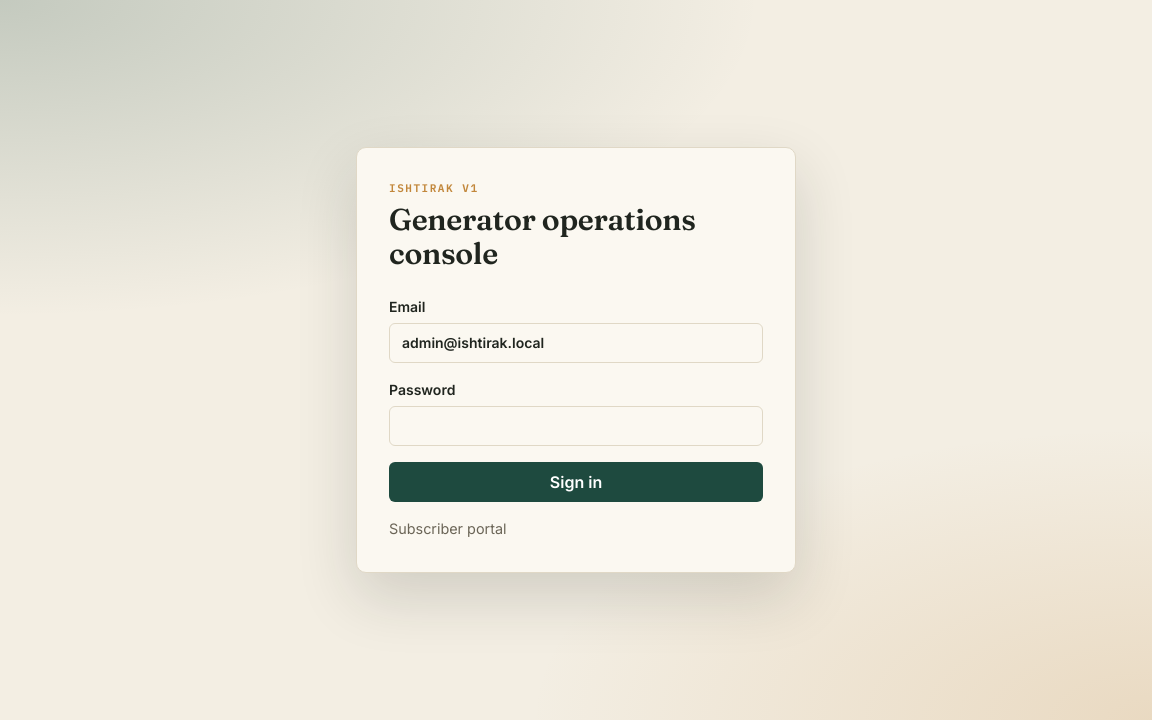
auth pages › links from the operator login to the subscriber login
The image size is (1152, 720).
Check: the heading "Generator operations console" is shown, box [389,201,696,272]
What coordinates should you click on to do the following:
click the link "Subscriber portal"
I would click on:
 (448, 529)
Its box is [389,518,506,539].
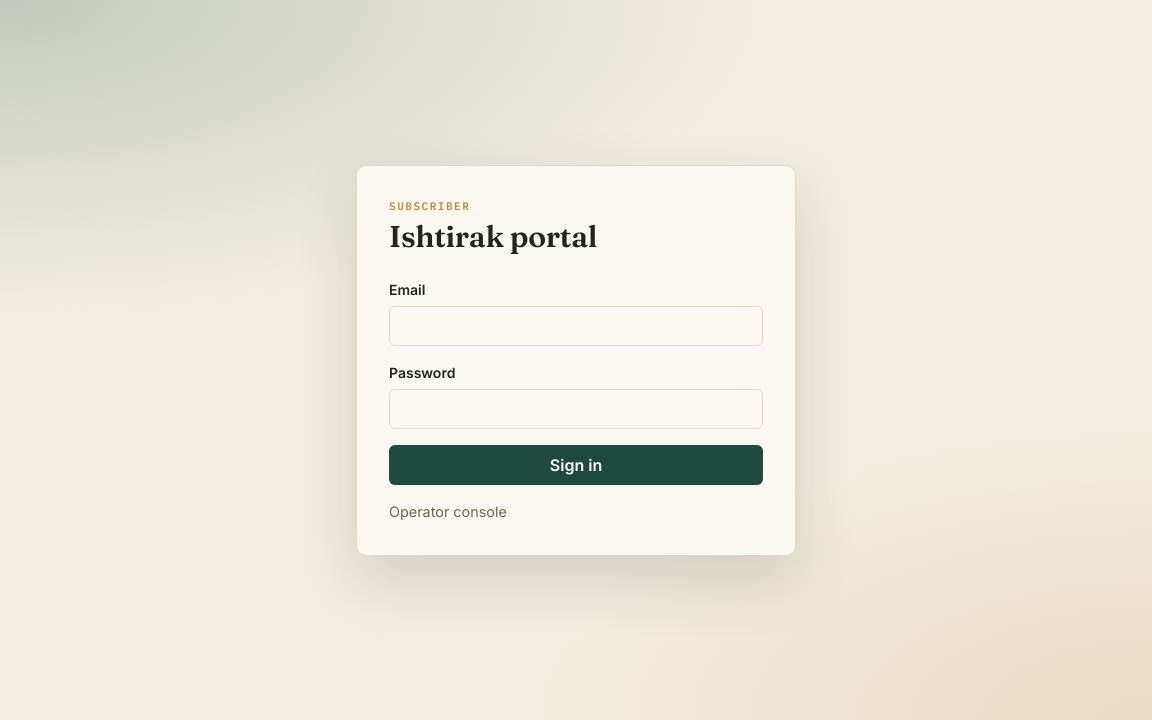
Check: the heading "Ishtirak portal" is shown, box [389,218,597,255]
